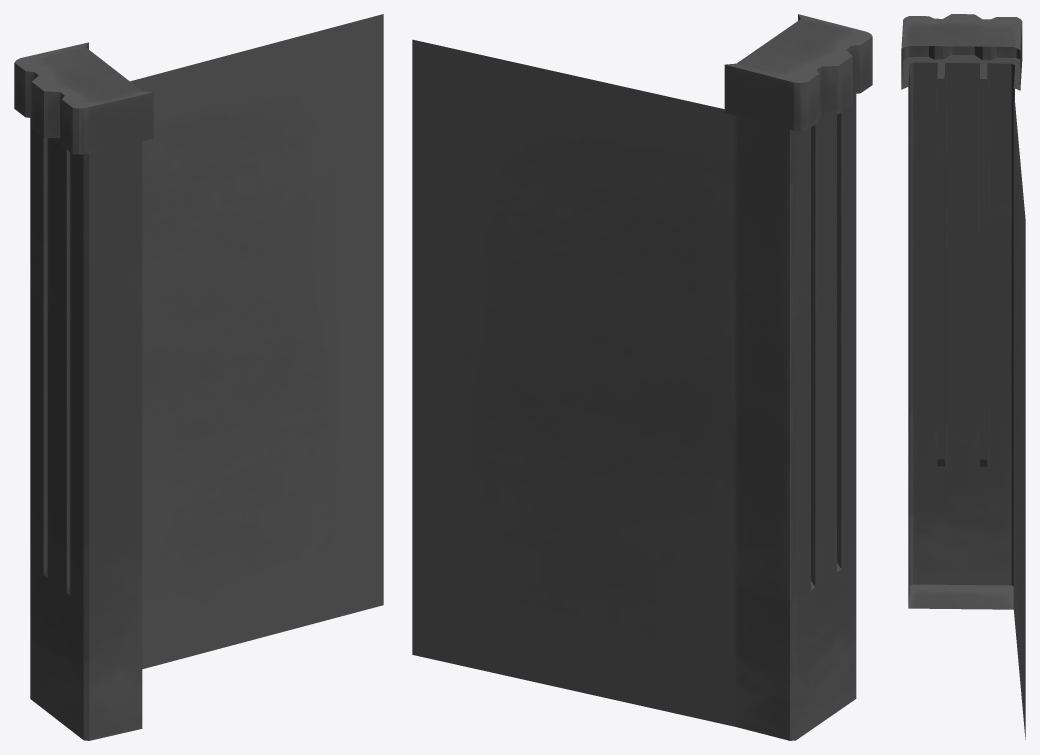
File: WallColumn.fbx
3 views of the same model, side by side, from view 1: azimuth 30°, elevation 25°; view 2: azimuth 150°, elevation 25°; view 3: azimuth 270°, elevation 25° (orthographic). The views are drawn at different scales.
Visible parts, largest first — view 1: wallColumn2; view 2: wallColumn2; view 3: wallColumn2.
Boxes of the visible parts, x1=… form: wallColumn2: x1=14, y1=14, x2=383, y2=740; wallColumn2: x1=412, y1=14, x2=872, y2=740; wallColumn2: x1=901, y1=14, x2=1025, y2=739.
Size of the model in its own units: 8.26 by 13.2 by 2.64.
